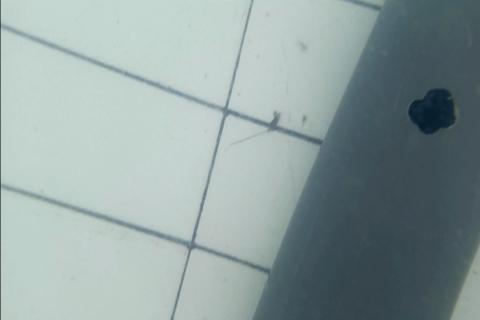kebocoran: (407, 84, 459, 136)
